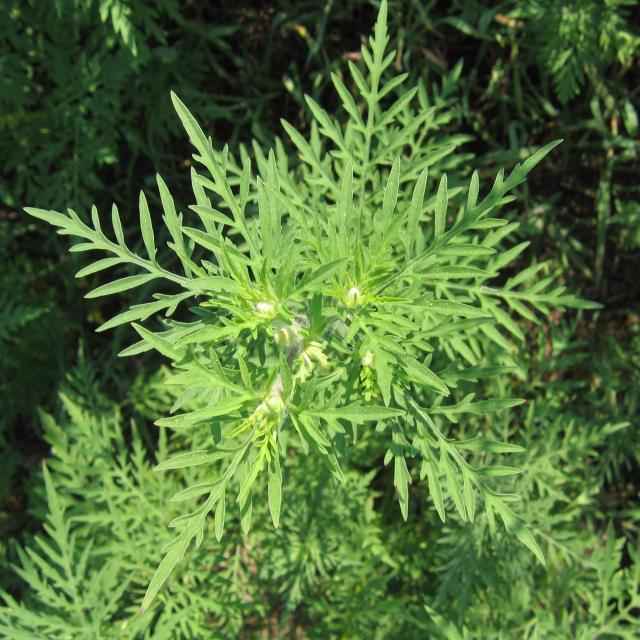ambrosia: (155, 115, 532, 517)
